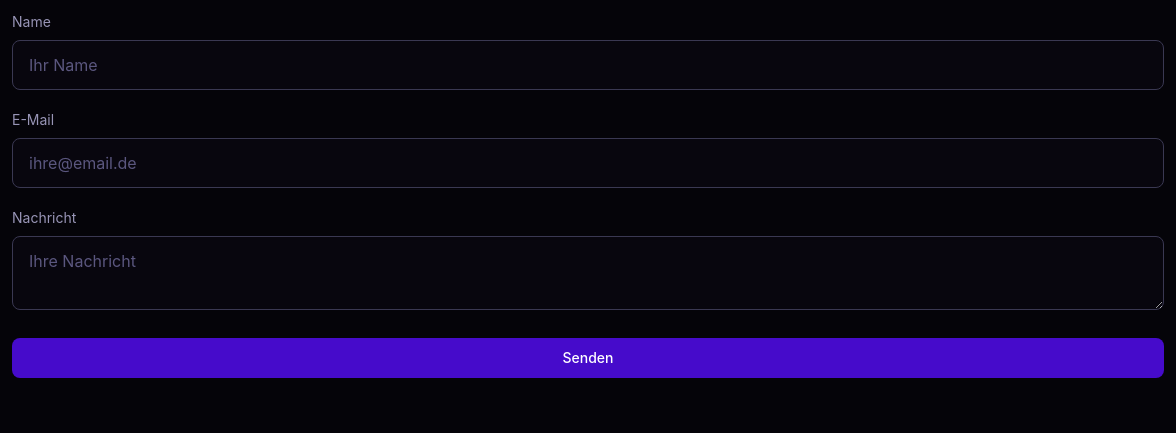
Test: ContactForm › shows an error message referencing the contact email when submission fails
Type "Ada Lovelace" into the field labelled "Name" at (588, 65), box [12,40,1164,90]
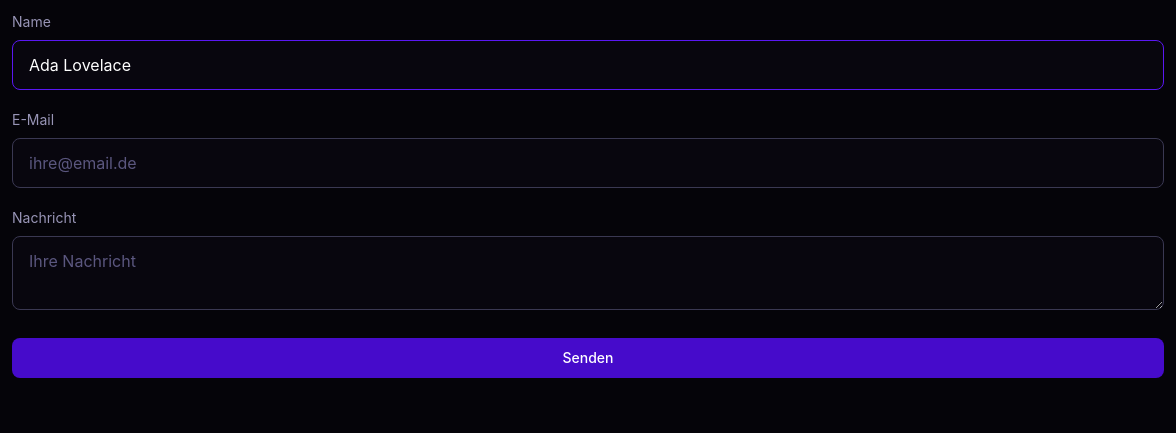
Type "ada@example.com" into the field labelled "E-Mail" at (588, 163), box [12,138,1164,188]
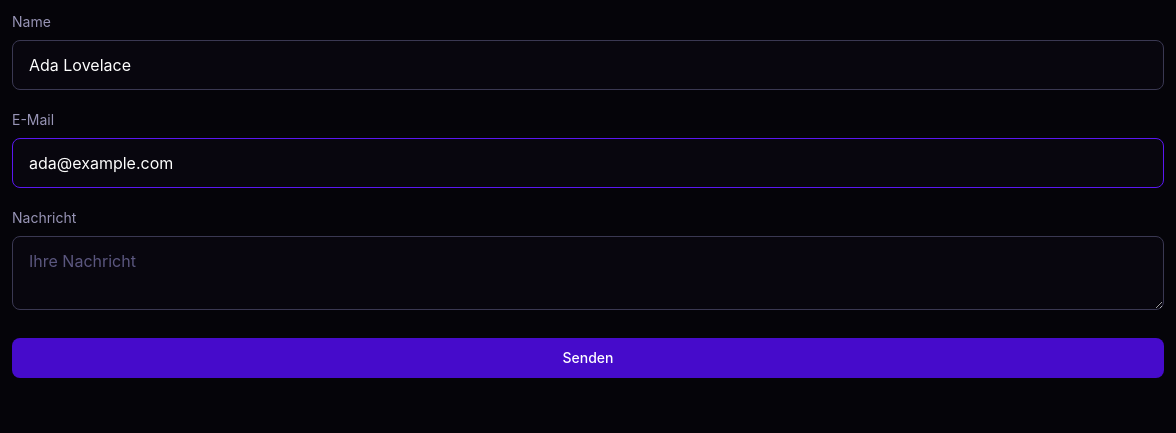
Type "Hallo!" into the text box labelled "Nachricht" at (588, 273), box [12,236,1164,310]
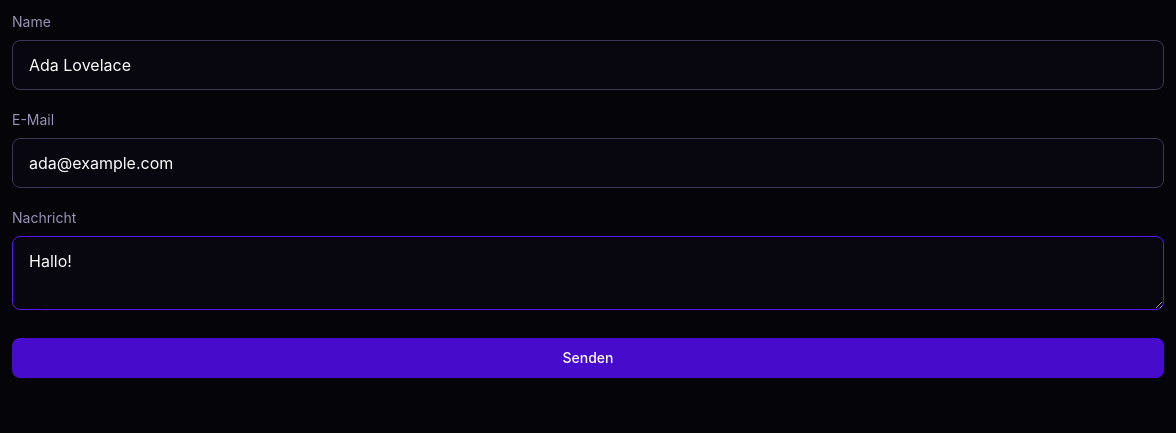
Click the button "Senden" at (588, 358), box [12,338,1164,378]
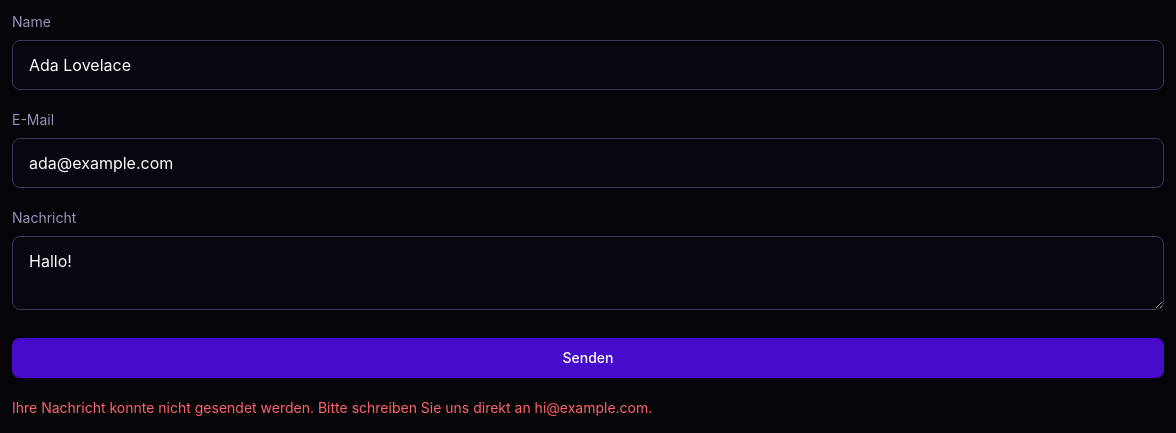
Now the text "hi@example.com" is shown, box [12,399,652,416]
